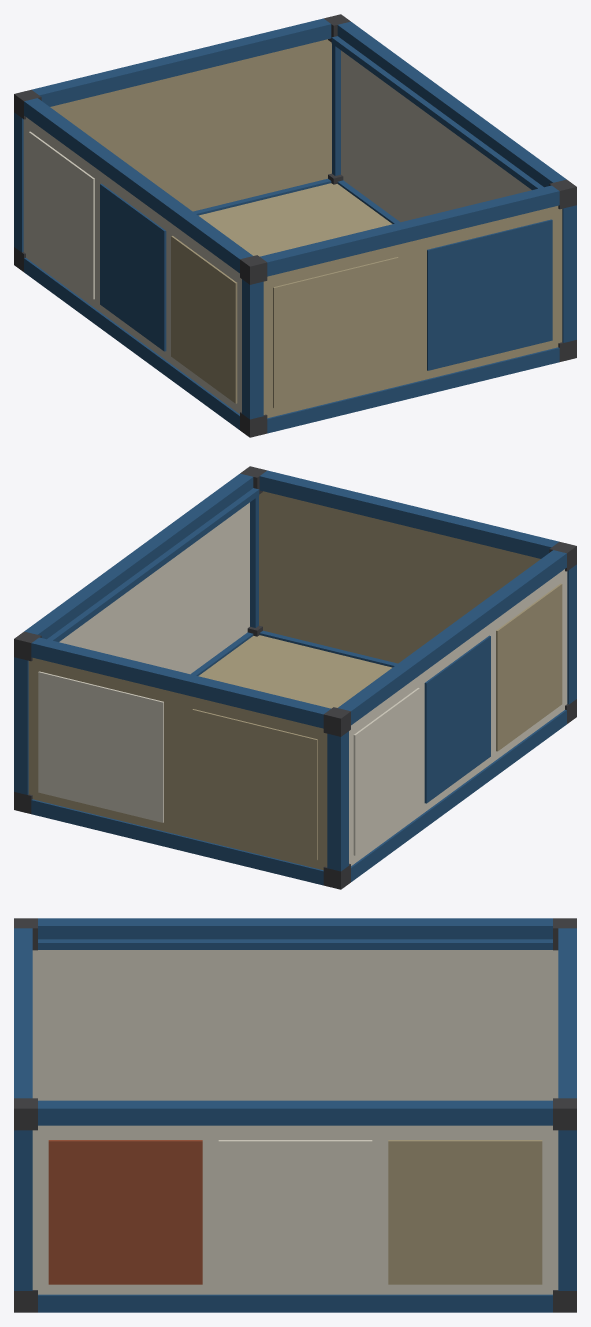
The model's file is drone4_frame.obj.
3 renders of one model, top to bottom at view 1: azimuth 30°, elevation 25°; view 2: azimuth 150°, elevation 25°; view 3: azimuth 270°, elevation 25°, orthographic. The views are drawn at different scales.
Parts seen in each view (by area): view 1: drone4_frame; view 2: drone4_frame; view 3: drone4_frame.
Boxes of the visible parts, x1=… form: drone4_frame: x1=14, y1=14, x2=576, y2=437; drone4_frame: x1=14, y1=466, x2=576, y2=889; drone4_frame: x1=14, y1=918, x2=576, y2=1312.
Size of the model in its own units: 3.37 by 1.69 by 4.22.
